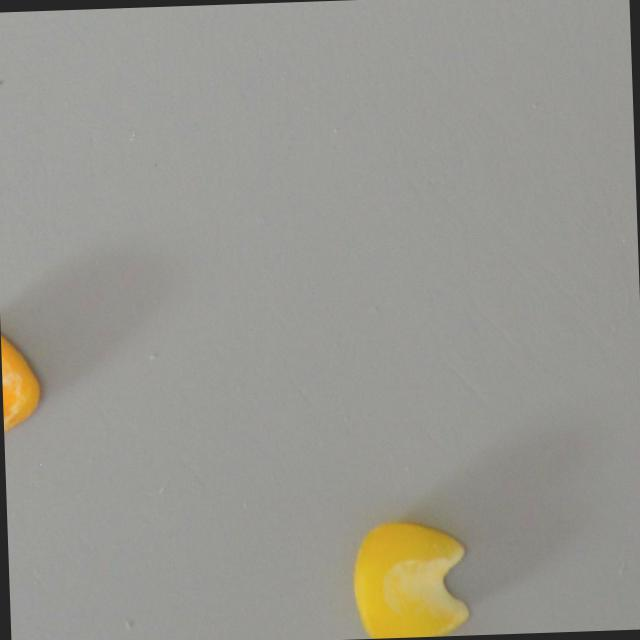no_canjicado: (349, 518, 474, 639)
pelicula: (0, 324, 44, 443)
